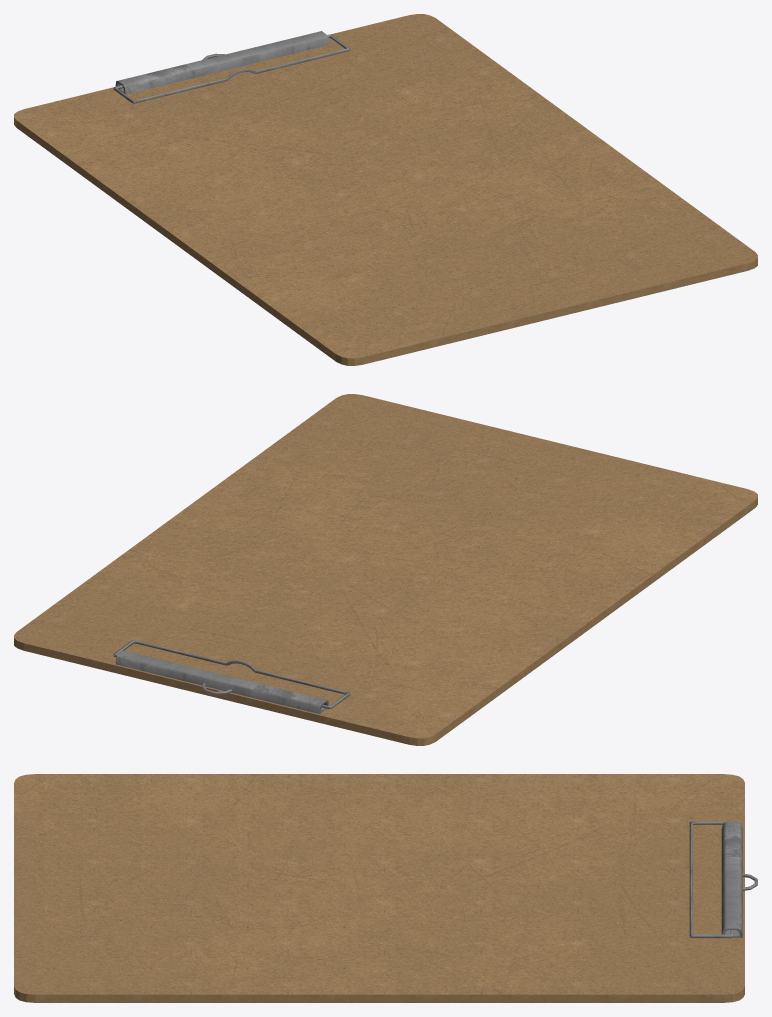
Rendered from clipboard.fbx.
The picture shows the model from 3 angles, top to bottom: view 1: azimuth 30°, elevation 25°; view 2: azimuth 150°, elevation 25°; view 3: azimuth 270°, elevation 25°; orthographic projection. The views are drawn at different scales.
Visible parts, largest first — view 1: clipboard; view 2: clipboard; view 3: clipboard.
Part boxes in pixels (x1,y1,x2,y2): clipboard: (14,14,757,365); clipboard: (14,394,757,745); clipboard: (14,774,757,1002).
Size of the model in its own units: 24 by 1.01 by 34.19.
1 material, 1 textured.
